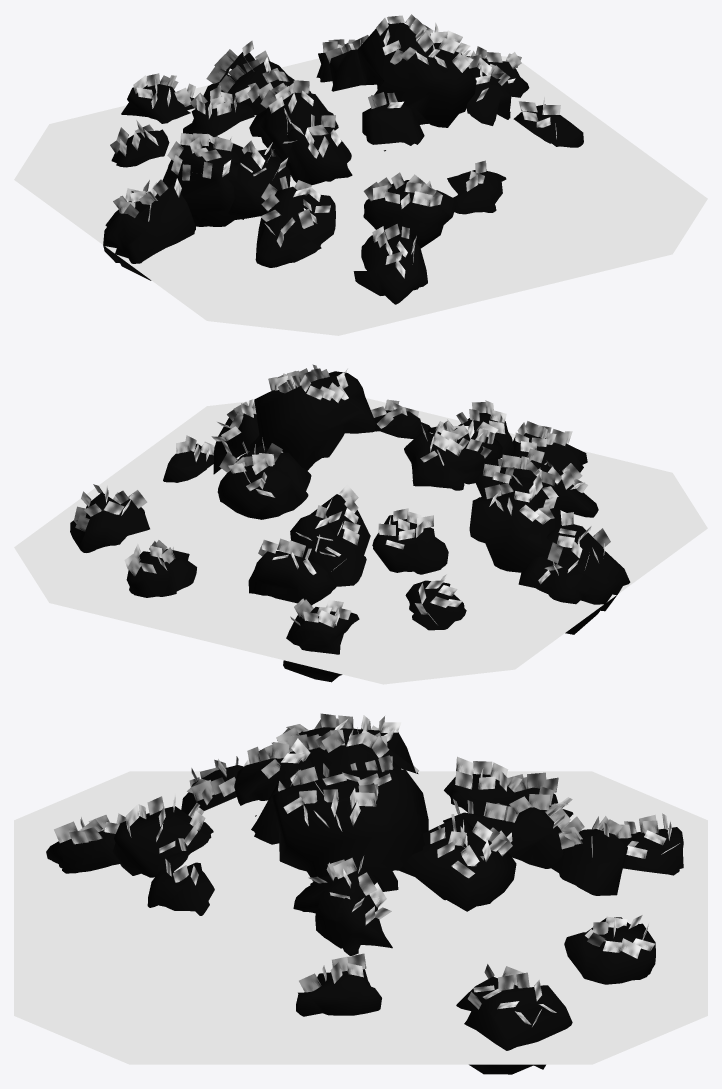
File: SM_Small_Rocks_Pile_A.fbx
The picture shows the model from 3 angles, top to bottom: view 1: azimuth 30°, elevation 25°; view 2: azimuth 150°, elevation 25°; view 3: azimuth 270°, elevation 25°; orthographic projection. The views are drawn at different scales.
Parts seen in each view (by area): view 1: SM_Small_Rocks_Pile_A_LOD0; view 2: SM_Small_Rocks_Pile_A_LOD0; view 3: SM_Small_Rocks_Pile_A_LOD0.
Part boxes in pixels (x1,y1,x2,y2): SM_Small_Rocks_Pile_A_LOD0: (14,14,707,335); SM_Small_Rocks_Pile_A_LOD0: (14,364,707,684); SM_Small_Rocks_Pile_A_LOD0: (14,713,707,1074).
Size of the model in its own units: 253 by 250 by 91.5.
3 materials, 1 textured.
